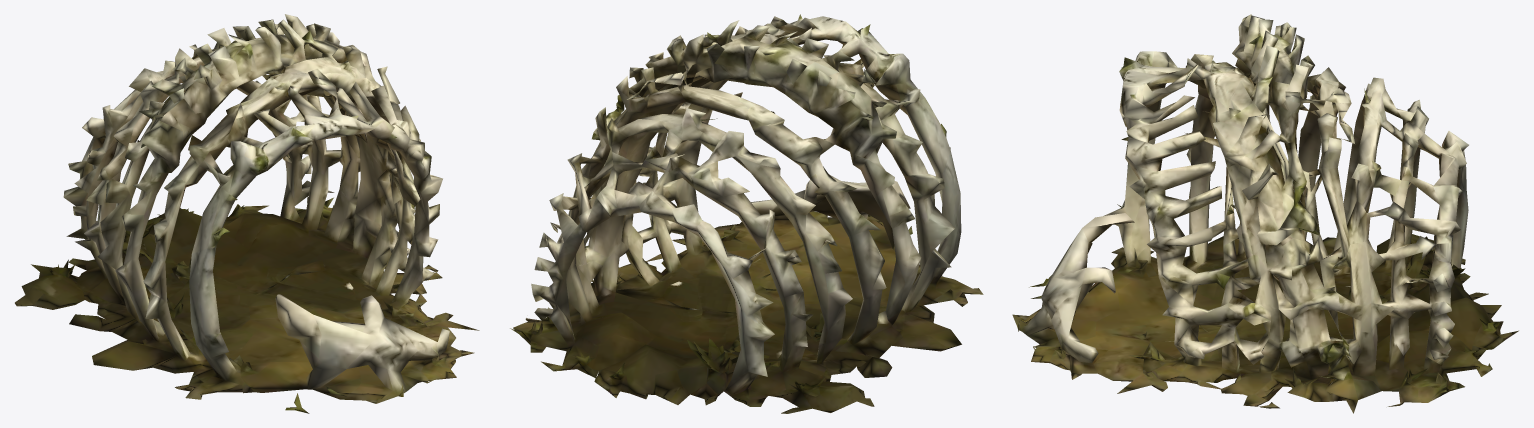
File: ribcage.glb
3 renders of one model, left to right at view 1: azimuth 30°, elevation 25°; view 2: azimuth 150°, elevation 25°; view 3: azimuth 270°, elevation 25°, orthographic.
Parts seen in each view (by area): view 1: tripo_node_8b05df37-3069-400e-ab32-638457e86b80; view 2: tripo_node_8b05df37-3069-400e-ab32-638457e86b80; view 3: tripo_node_8b05df37-3069-400e-ab32-638457e86b80.
Boxes of the visible parts, bbox=[...] form: tripo_node_8b05df37-3069-400e-ab32-638457e86b80: bbox=[15, 14, 479, 413]; tripo_node_8b05df37-3069-400e-ab32-638457e86b80: bbox=[510, 14, 983, 413]; tripo_node_8b05df37-3069-400e-ab32-638457e86b80: bbox=[1012, 14, 1518, 413].
Bounding box in the file's own units: 0.8294 × 0.6151 × 0.9771.
Materials: 1 (1 with a texture image).
